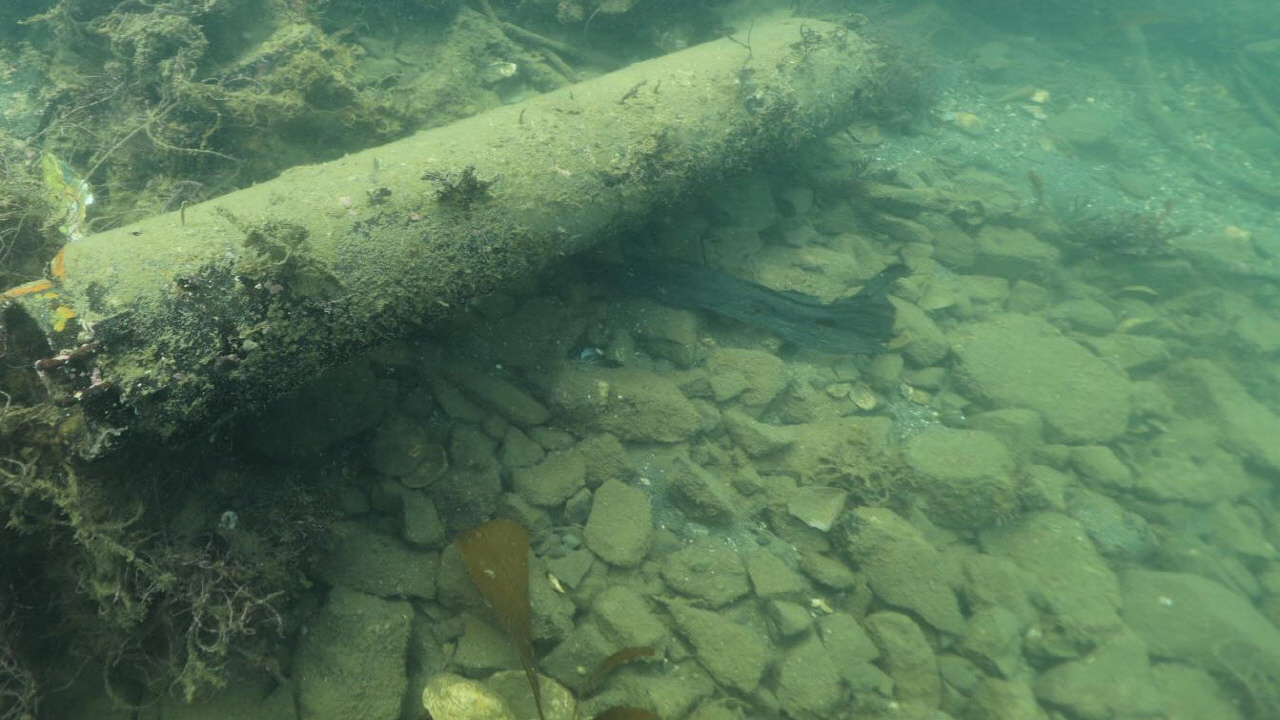eel fish trap: (0, 17, 886, 446)
